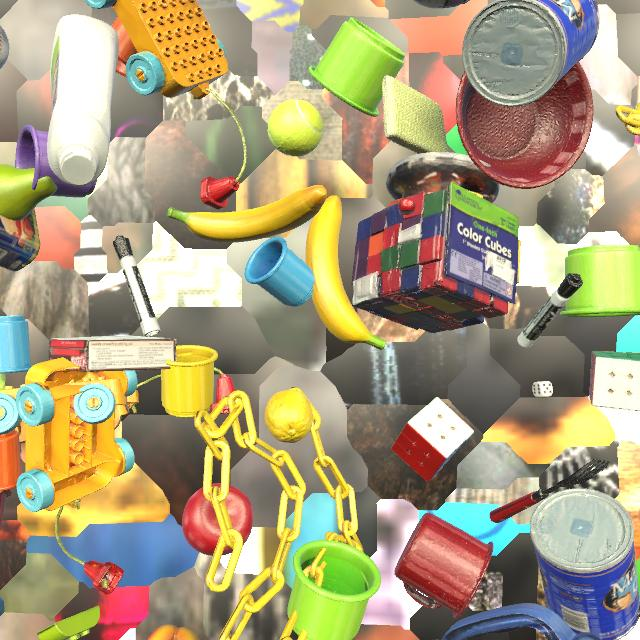ycb_002_master_chef_can: (530, 488, 640, 640), (462, 0, 599, 107)
ycb_008_pudding_box: (48, 335, 177, 372)
ycb_010_potted_meat_can: (0, 209, 40, 271)
ycb_011_banana: (305, 195, 386, 350), (167, 185, 327, 243)
ycb_013_apple: (182, 483, 253, 556)
ycb_014_lemon: (264, 390, 313, 443)
ycb_015_peach: (146, 624, 199, 640)
ycb_016_pear: (0, 164, 57, 221)
